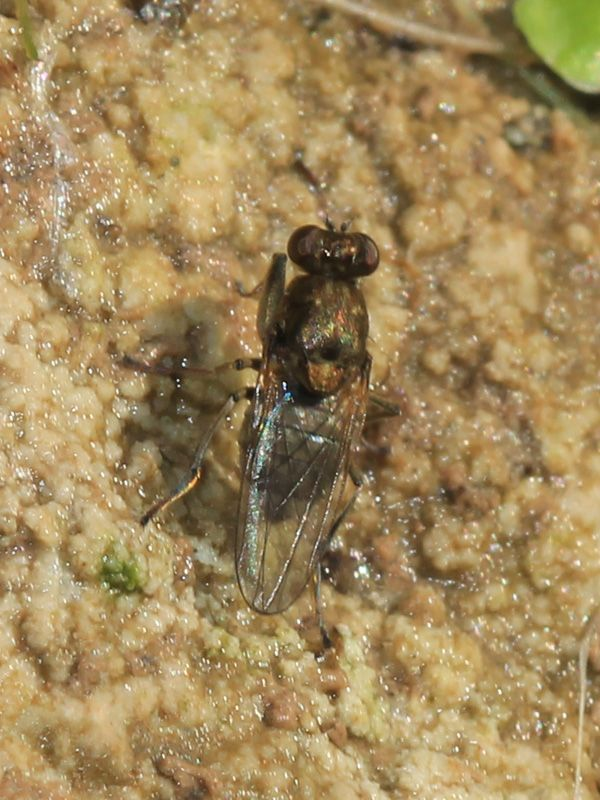Ephydridae: (138, 203, 390, 656)
